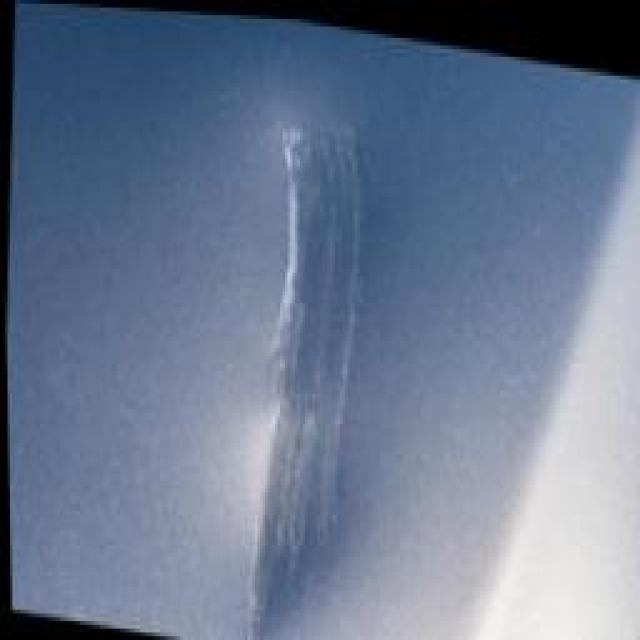Door: (0, 0, 552, 640)
